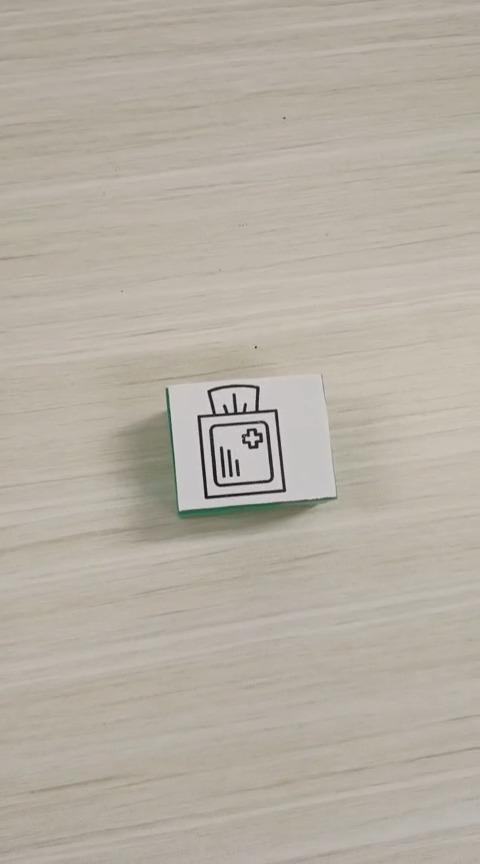Gauze: (164, 371, 337, 517)
